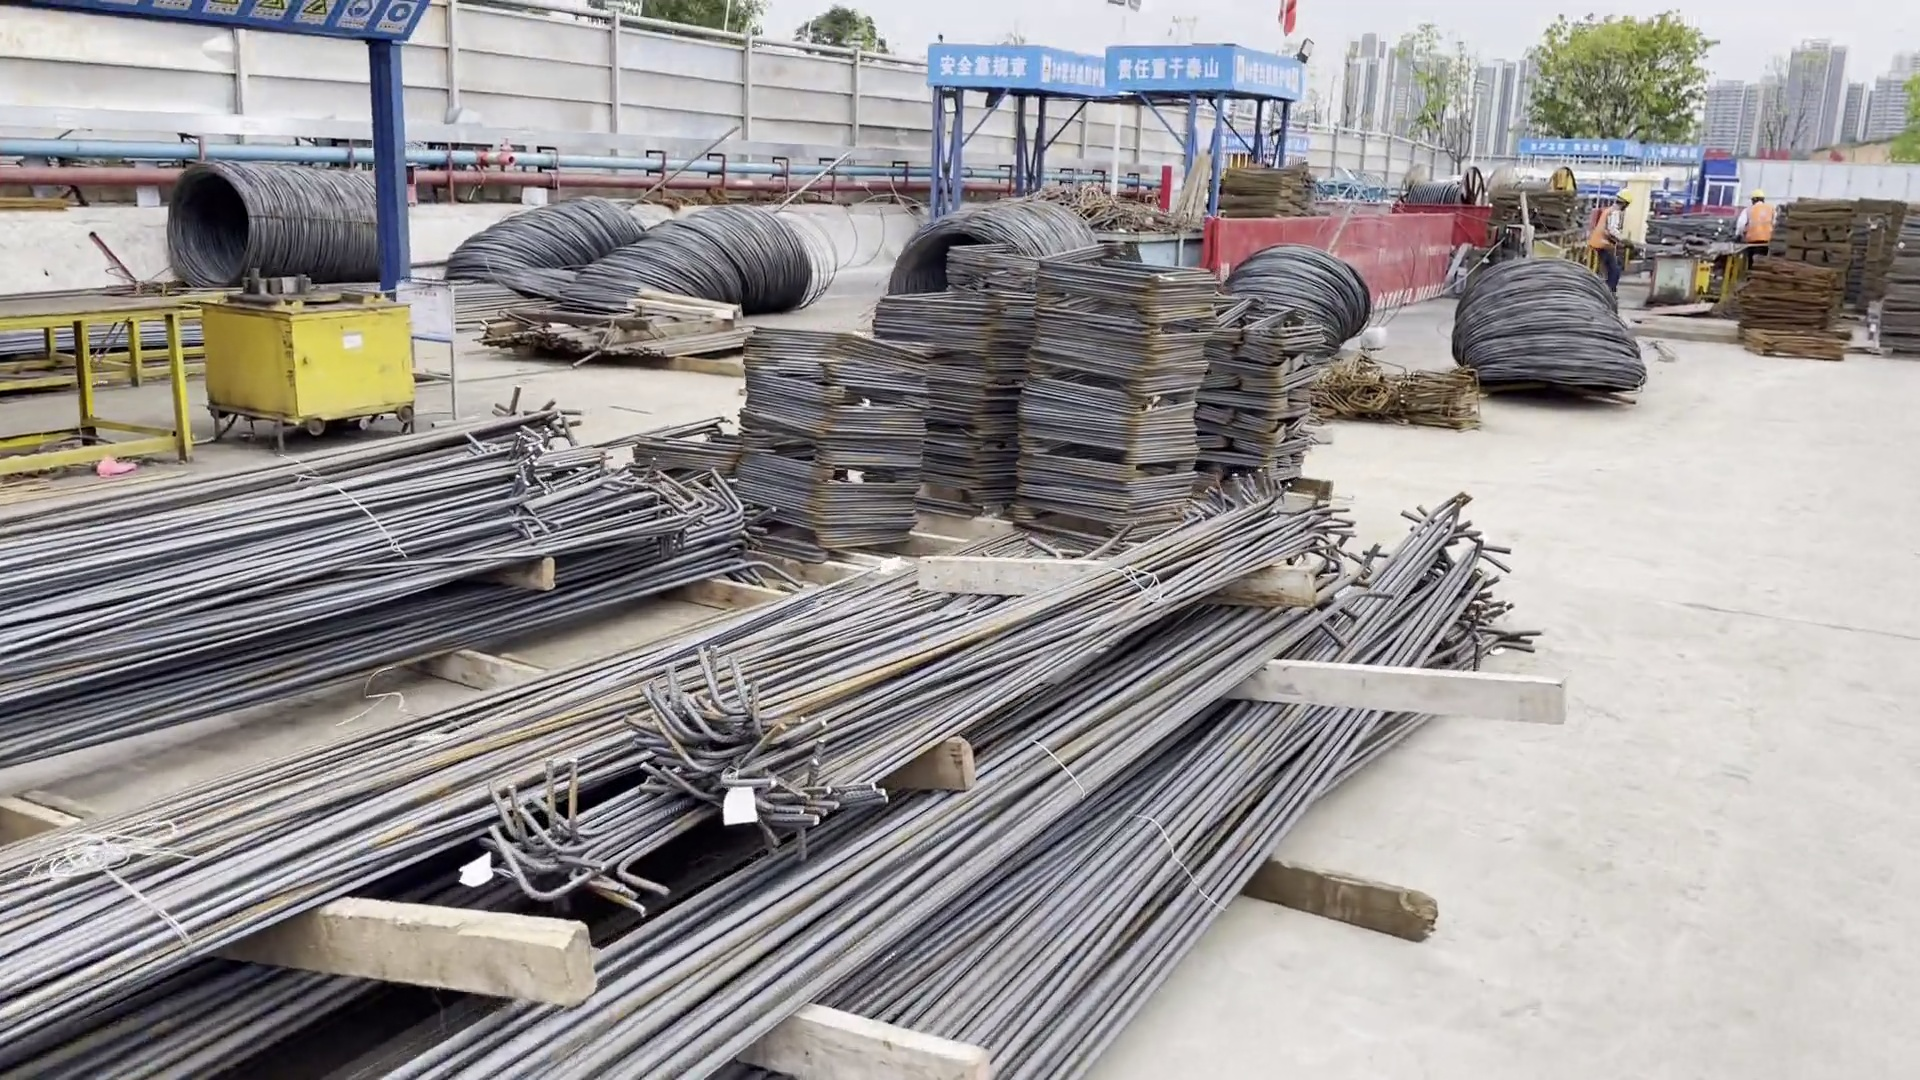cutter: (183, 258, 464, 461), (1644, 242, 1714, 303)
fence: (1213, 214, 1464, 315)
helmet: (1616, 189, 1639, 207), (1746, 189, 1770, 203)
hopper: (1094, 204, 1208, 266)
person: (1598, 170, 1655, 304), (1717, 172, 1779, 247)
rebar: (3, 404, 1569, 1080)
slogan: (1, 1, 468, 66), (1087, 34, 1303, 124), (914, 39, 1096, 120), (392, 270, 487, 370), (1507, 127, 1634, 170), (1217, 127, 1321, 154), (1644, 132, 1698, 169)
vest: (1592, 204, 1629, 258), (1746, 203, 1777, 243)
